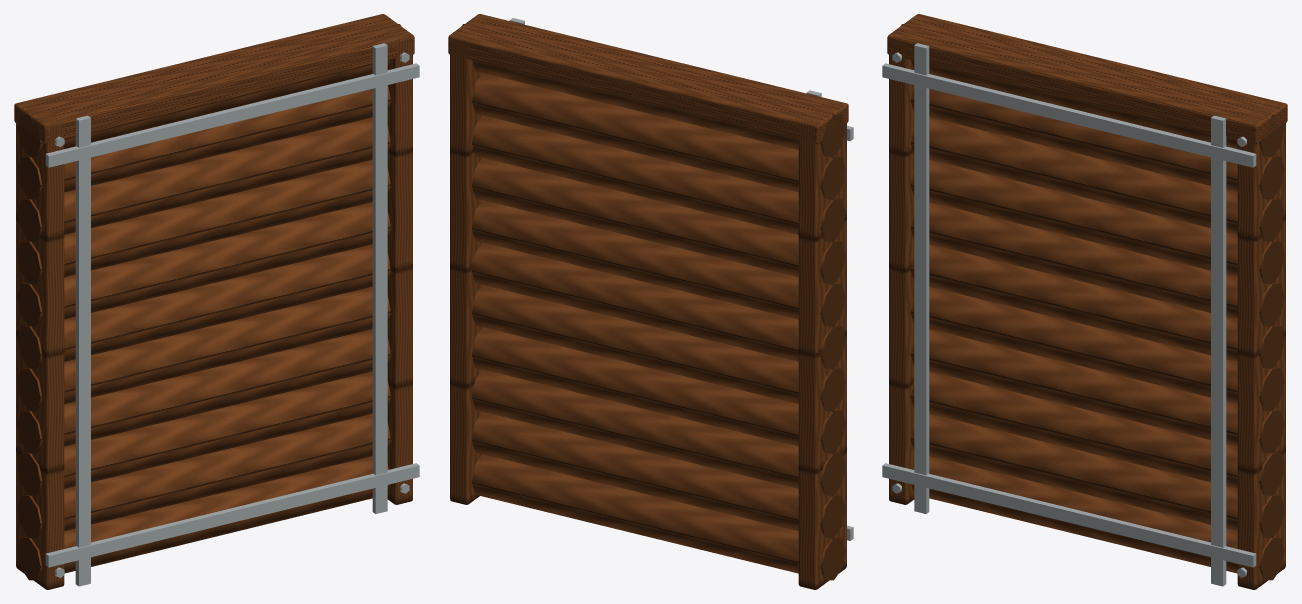
Rendered from modular-survival-base-builder-wall-log-stack-reinforce-94a9b9c7__24298.glb.
3 renders of one model, left to right at view 1: azimuth 30°, elevation 25°; view 2: azimuth 150°, elevation 25°; view 3: azimuth 330°, elevation 25°, orthographic.
Parts seen in each view (by area): view 1: wall-log-stack-reinforced; view 2: wall-log-stack-reinforced; view 3: wall-log-stack-reinforced.
Boxes of the visible parts, <box> form: wall-log-stack-reinforced: <box>14,14,419,589</box>; wall-log-stack-reinforced: <box>448,14,853,589</box>; wall-log-stack-reinforced: <box>882,14,1287,589</box>.
Bounding box in the file's own units: 2 × 2.4 × 0.3315.
Materials: 2 (1 with a texture image).
